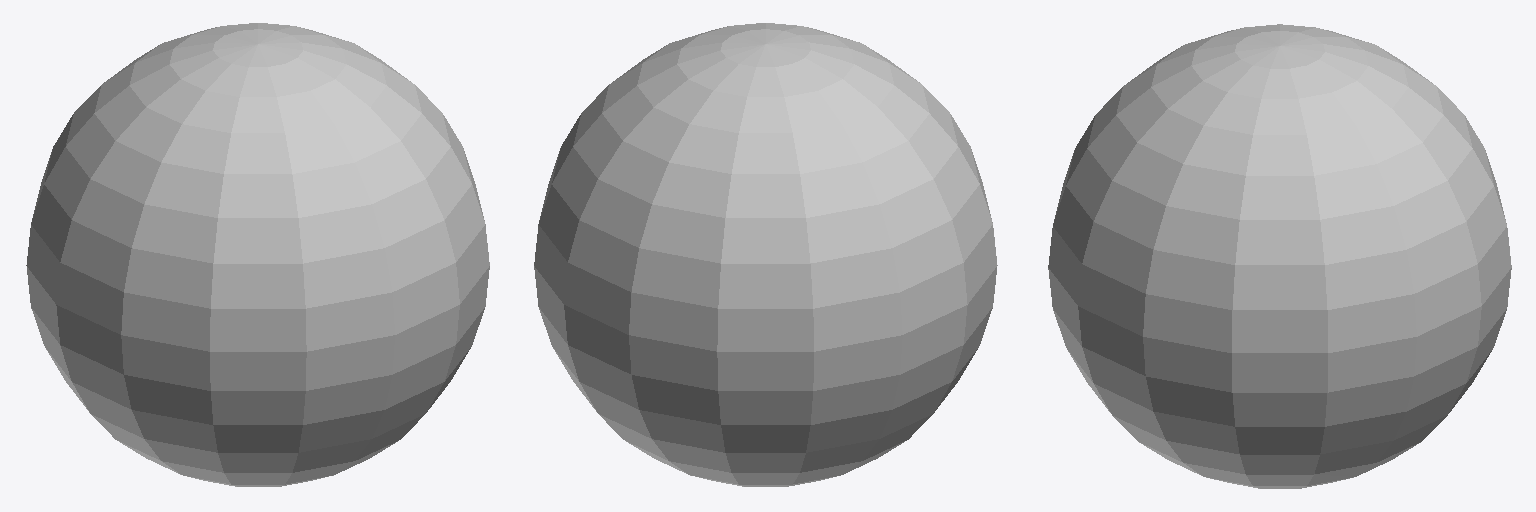
The model's file is player.obj.
3 renders of one model, left to right at view 1: azimuth 30°, elevation 25°; view 2: azimuth 150°, elevation 25°; view 3: azimuth 270°, elevation 25°, orthographic.
Parts seen in each view (by area): view 1: Sphere_Sphere.001; view 2: Sphere_Sphere.001; view 3: Sphere_Sphere.001.
Boxes of the visible parts, box(x1,y1,x2,y2) form: Sphere_Sphere.001: box(26, 23, 489, 486); Sphere_Sphere.001: box(534, 23, 997, 486); Sphere_Sphere.001: box(1048, 24, 1511, 488).
Size of the model in its own units: 0.4945 by 0.5 by 0.4973.